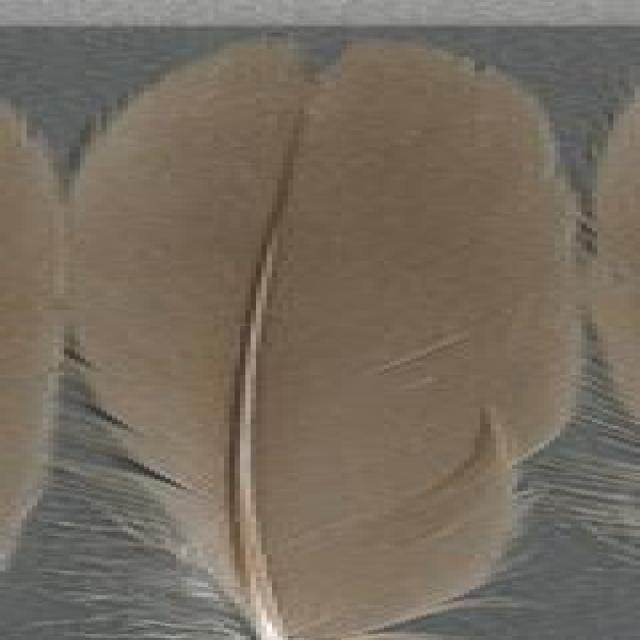feather: (62, 34, 590, 640)
